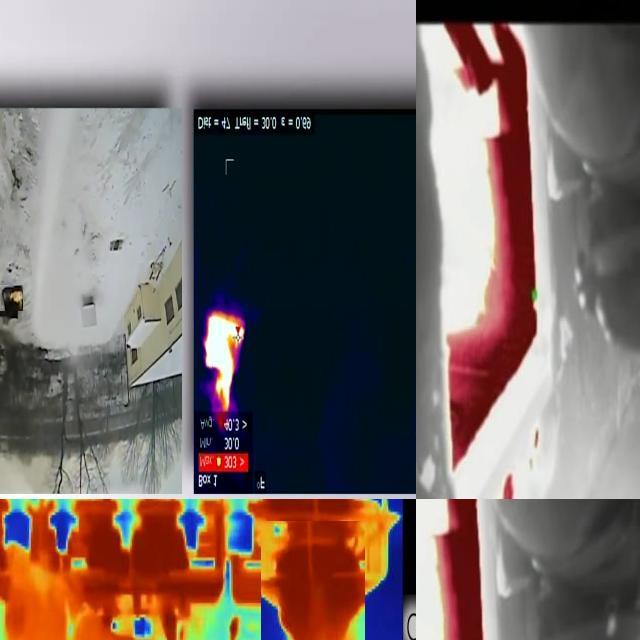fire: (446, 17, 540, 479), (262, 522, 366, 640), (417, 500, 489, 640), (76, 572, 204, 640), (203, 313, 248, 415)
